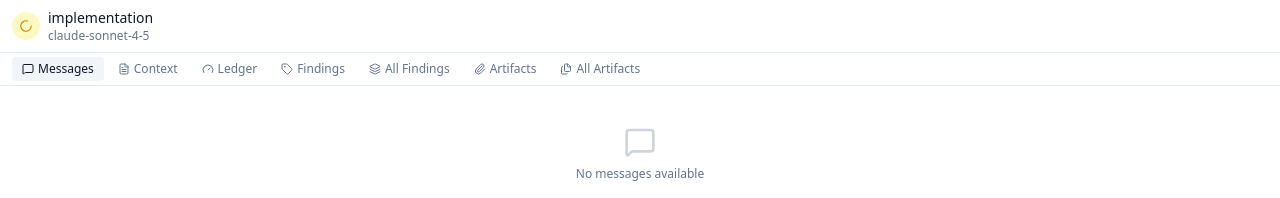
it: AgentLogDetail — Context tab › shows loading spinner while prompt is being fetched
Click the button "Context" at point(148, 69), box [108,57,188,81]
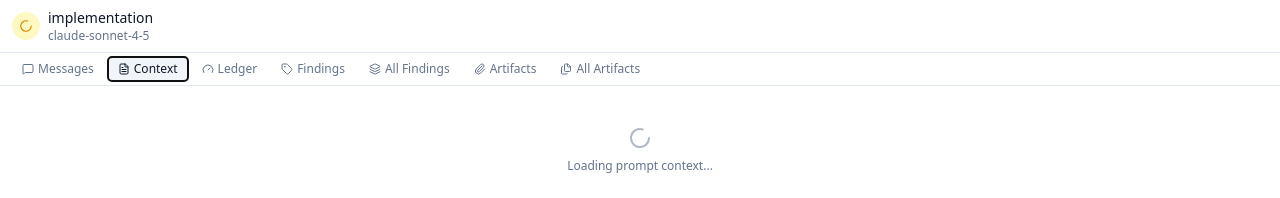
Result: the text "Loading prompt context..." is shown at [567,158,713,174]
